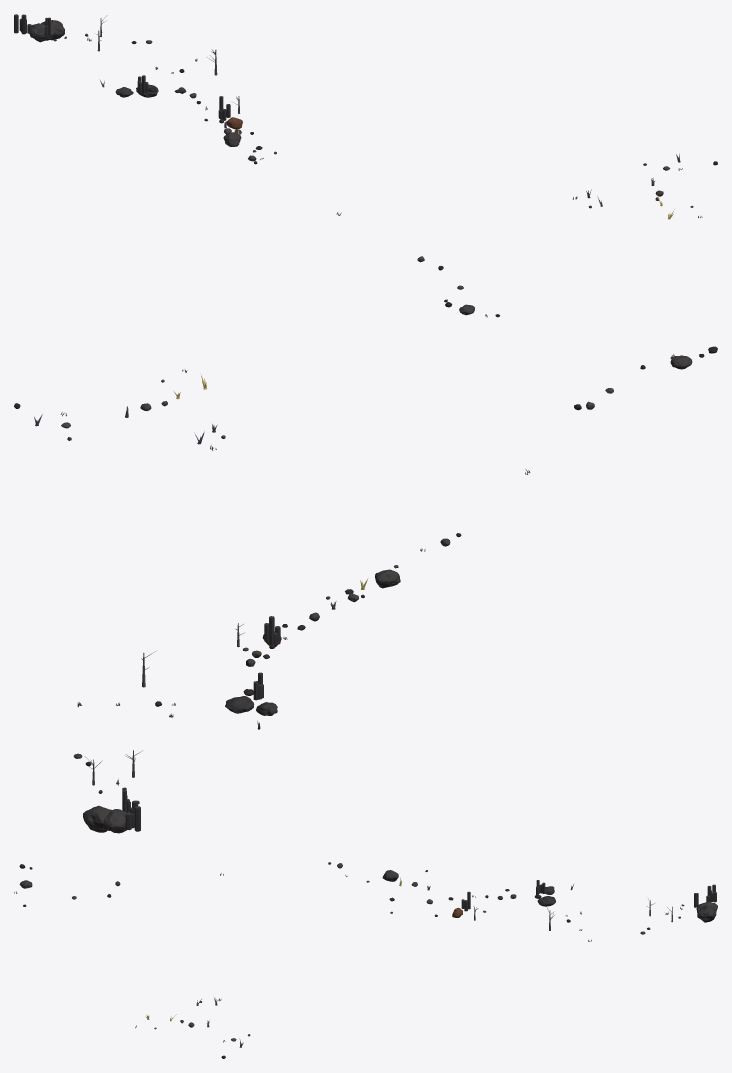
File: ash_land_scatter_c22_28.glb
3 renders of one model, top to bottom at view 1: azimuth 30°, elevation 25°; view 2: azimuth 150°, elevation 25°; view 3: azimuth 270°, elevation 25°, orthographic. The views are drawn at different scales.
Parts seen in each view (by area): view 1: ash_land_scatter_c22_28; view 2: ash_land_scatter_c22_28; view 3: ash_land_scatter_c22_28.
Part boxes in pixels (bbox=[...]): ash_land_scatter_c22_28: bbox=[14, 14, 717, 317]; ash_land_scatter_c22_28: bbox=[14, 346, 717, 833]; ash_land_scatter_c22_28: bbox=[14, 862, 717, 1058].
Size of the model in its own units: 108 by 15.01 by 205.
